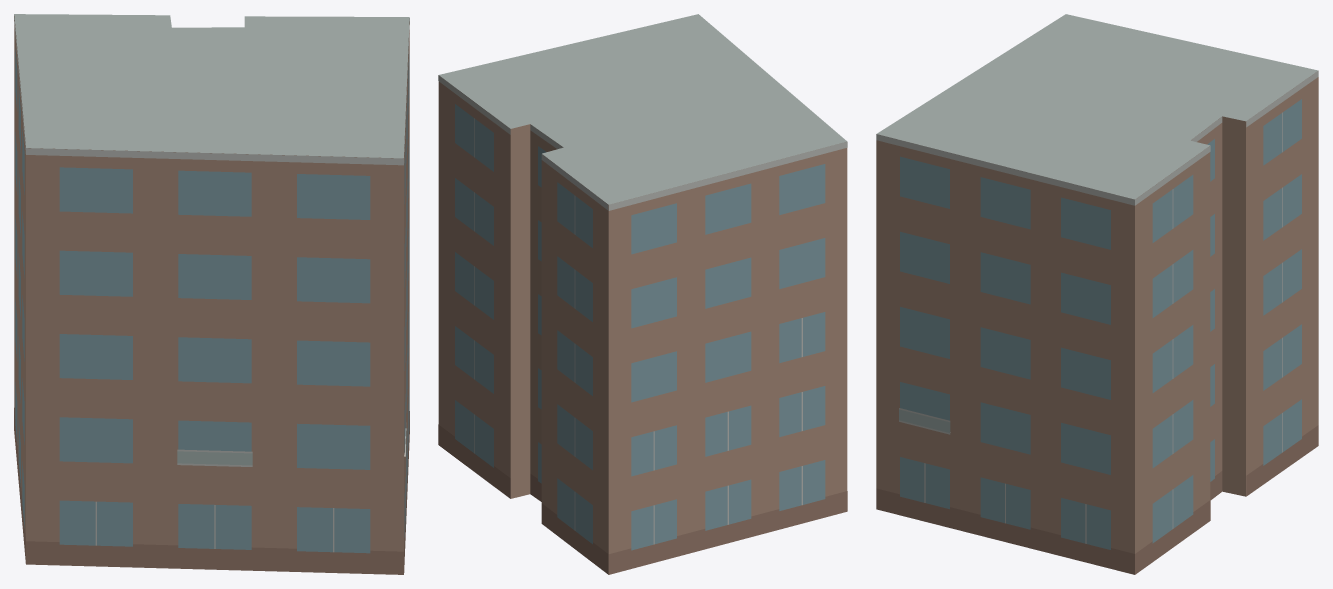
Rendered from survey-upis-32905982.glb.
The picture shows the model from 3 angles, left to right: view 1: azimuth 30°, elevation 25°; view 2: azimuth 150°, elevation 25°; view 3: azimuth 270°, elevation 25°; orthographic projection. The views are drawn at different scales.
Visible parts, largest first — view 1: survey-upis-32905982.tmp; view 2: survey-upis-32905982.tmp; view 3: survey-upis-32905982.tmp.
Part boxes in pixels (box(x1,y1,x2,y2)): survey-upis-32905982.tmp: box(14, 14, 409, 574); survey-upis-32905982.tmp: box(438, 14, 847, 574); survey-upis-32905982.tmp: box(876, 14, 1318, 574).
Size of the model in its own units: 15.59 by 14.7 by 15.71.
